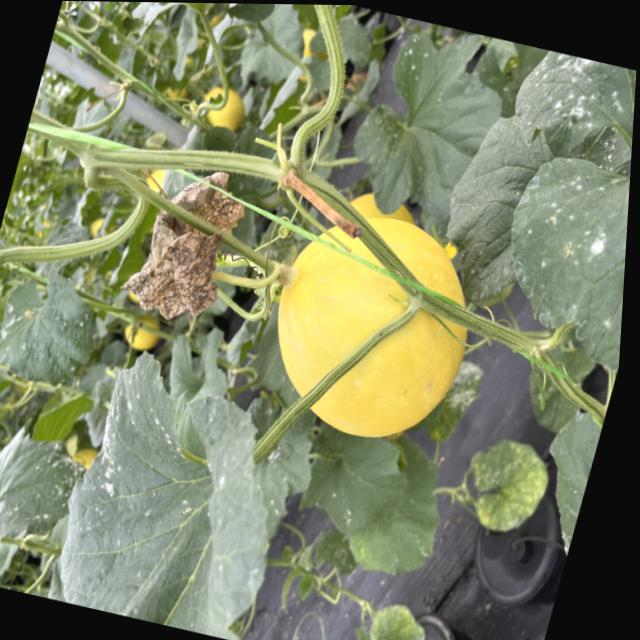bacterial wilt: (109, 149, 257, 334)
powdery mildew: (38, 336, 321, 640), (441, 44, 638, 391), (332, 13, 520, 239), (488, 375, 612, 640), (0, 208, 121, 414), (0, 413, 92, 598)
